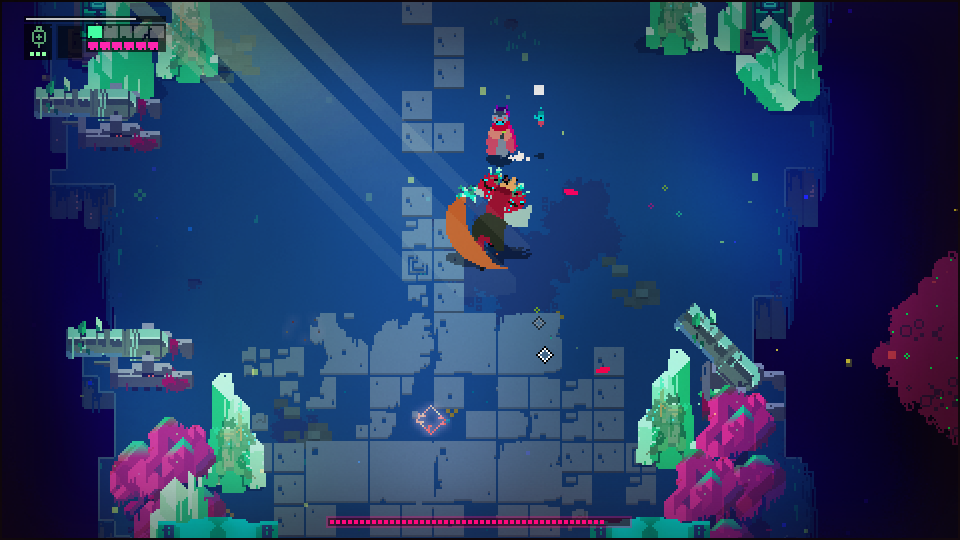hanged_man: (446, 164, 534, 269)
player: (484, 103, 518, 165)
